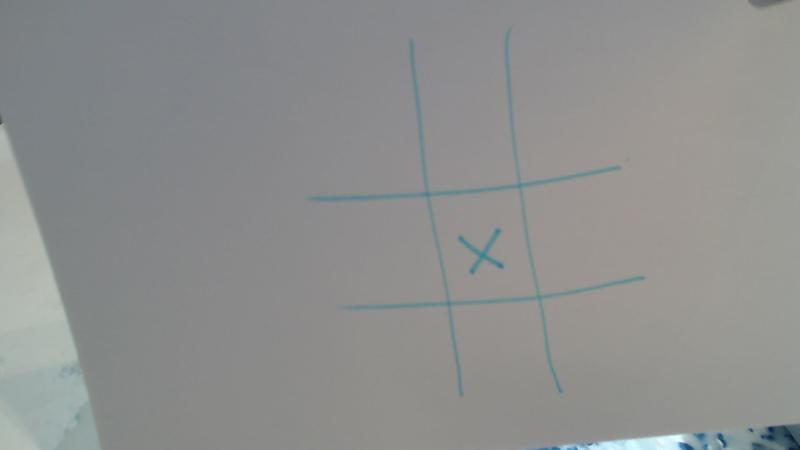X: (446, 216, 514, 280)
grid: (278, 38, 654, 416)
